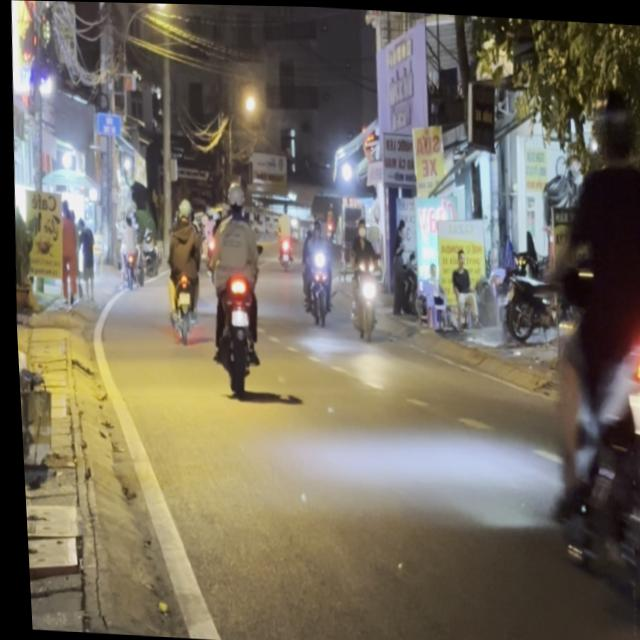helmet: (591, 82, 638, 164)
licenseplate: (525, 80, 640, 630)
nohelmet: (627, 385, 640, 433)
